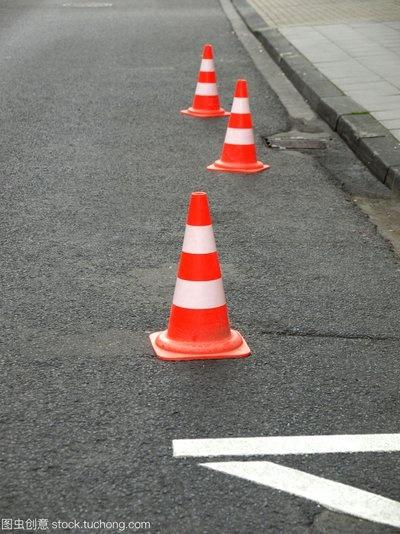cone_barrel: (144, 195, 249, 359), (208, 79, 266, 172), (178, 44, 224, 117)
